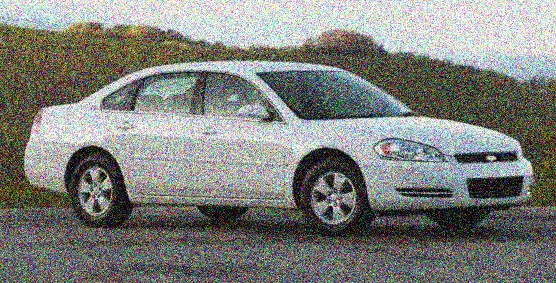car: (17, 55, 532, 241)
